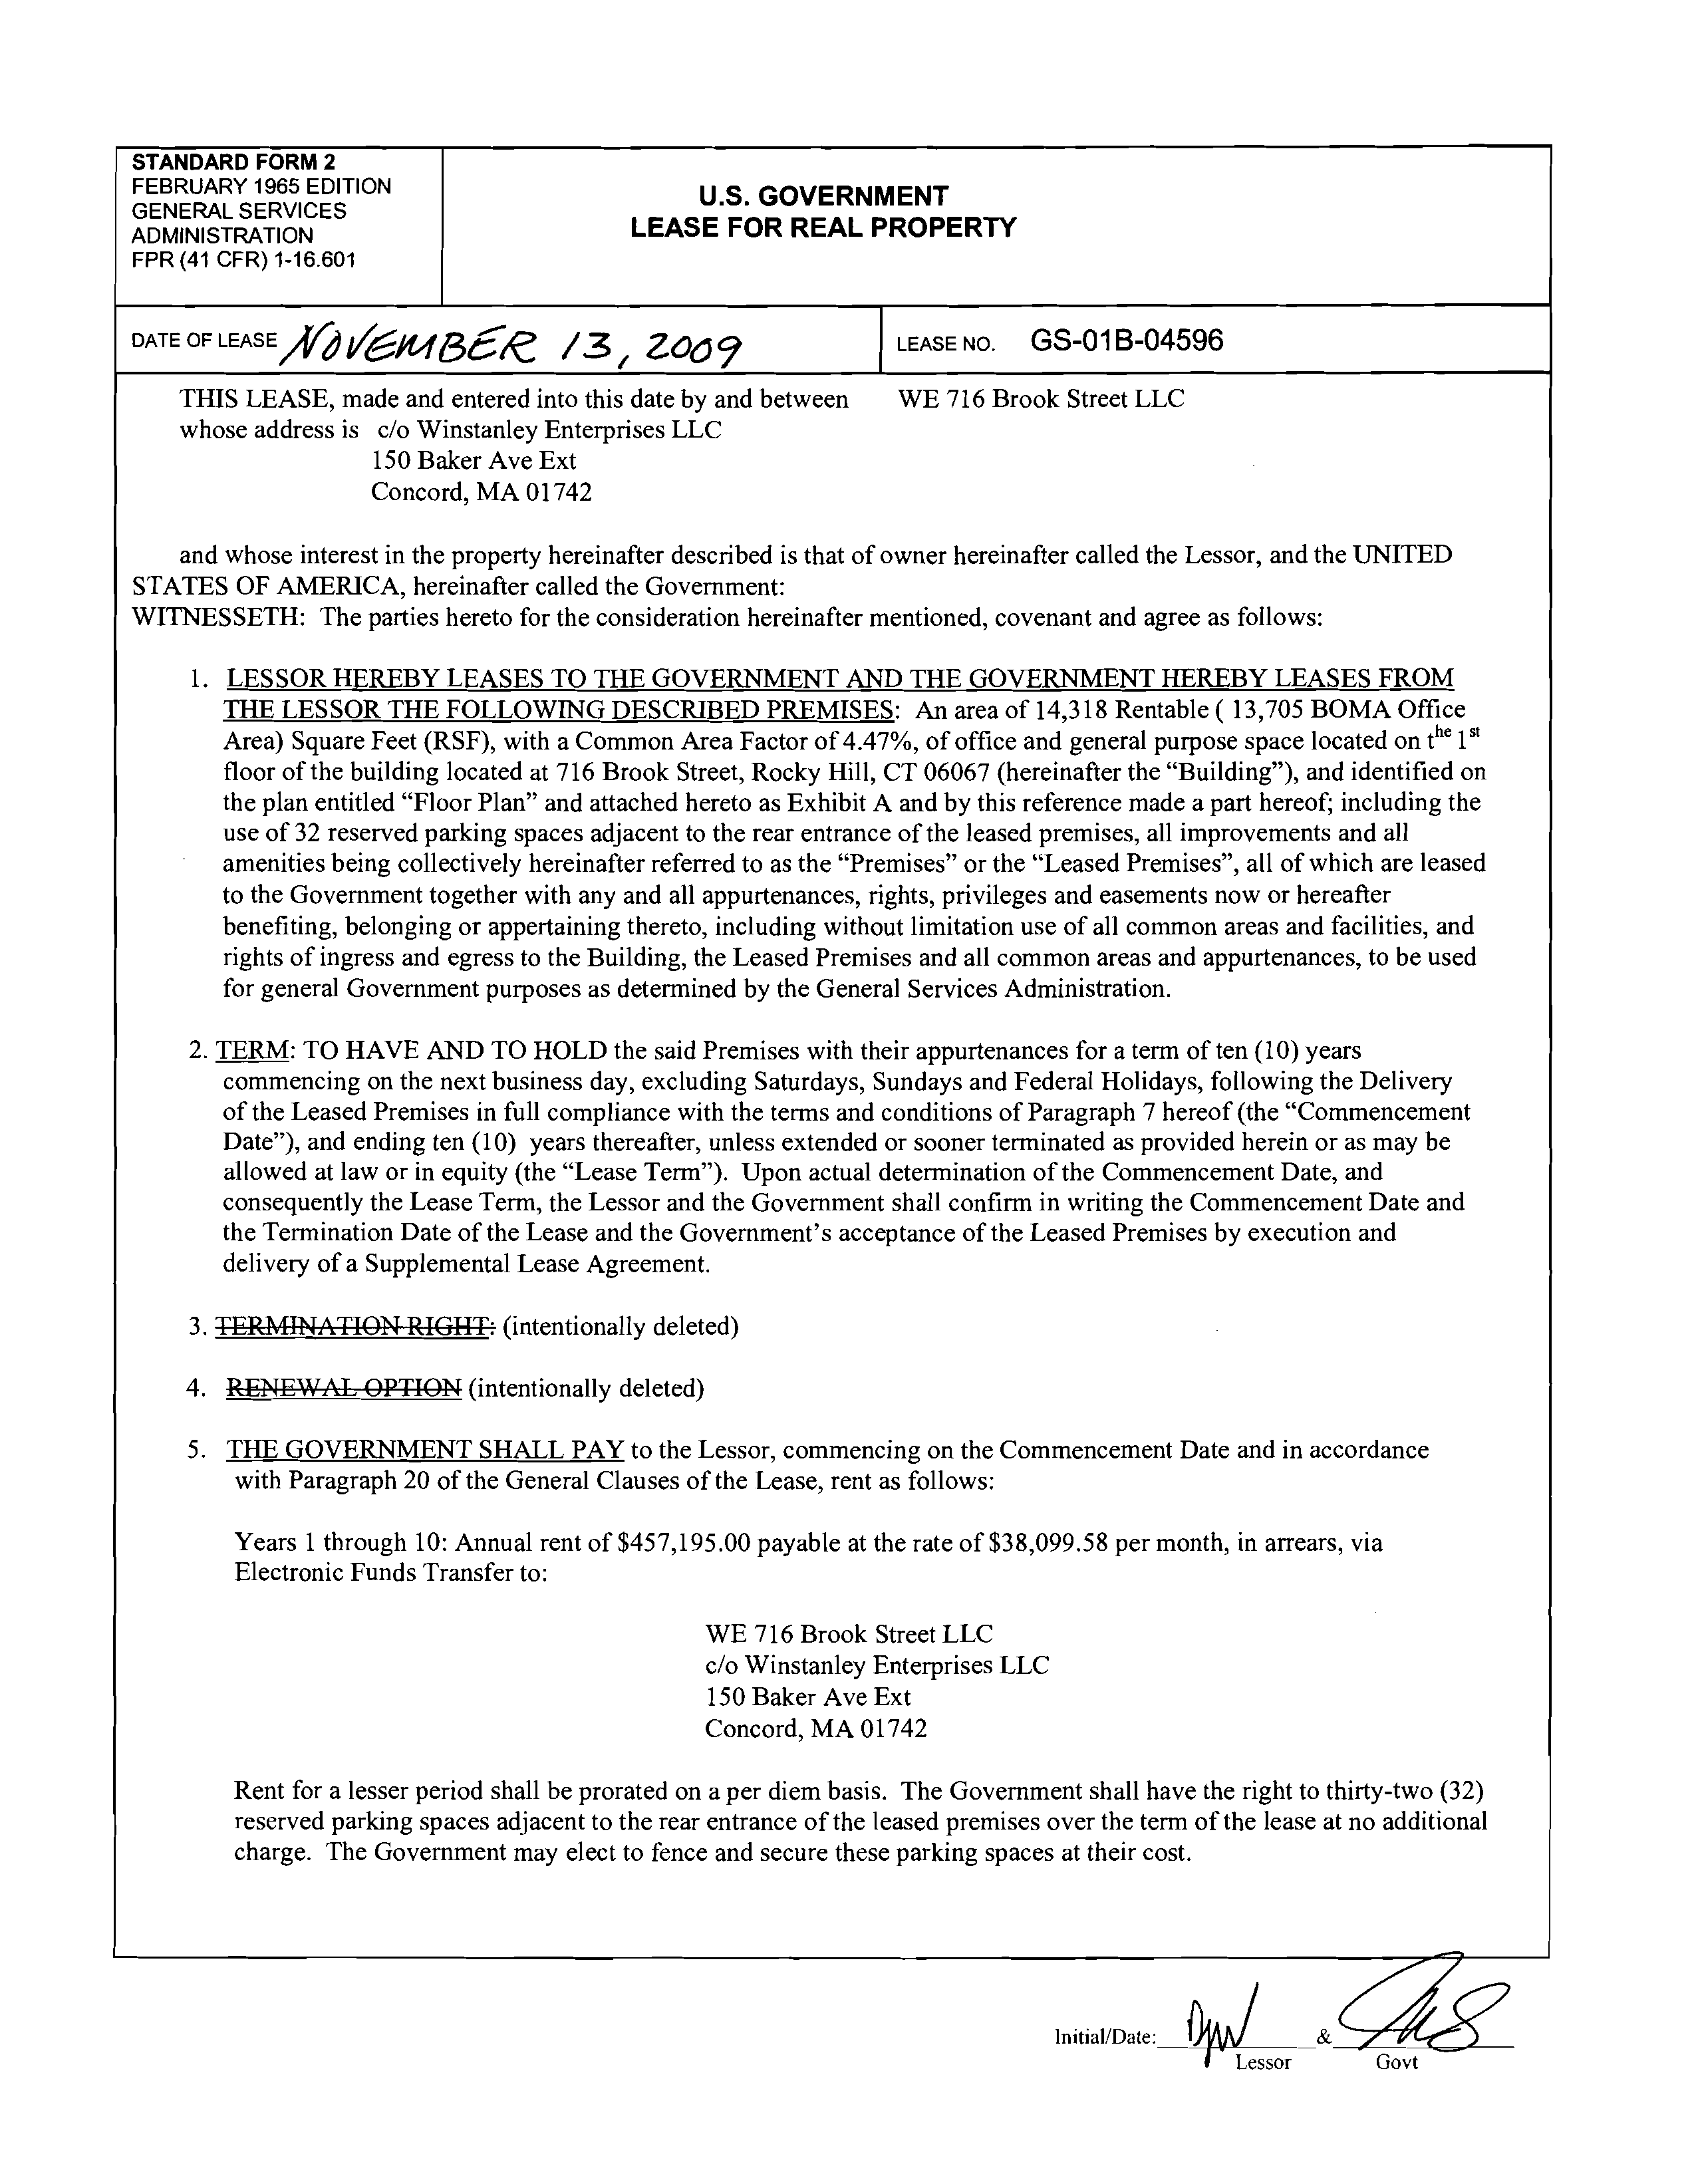handwritten: (277, 312, 750, 372), (1342, 1946, 1511, 2051), (1330, 1961, 1525, 2047), (1176, 1978, 1262, 2051), (1183, 1989, 1218, 2078)
